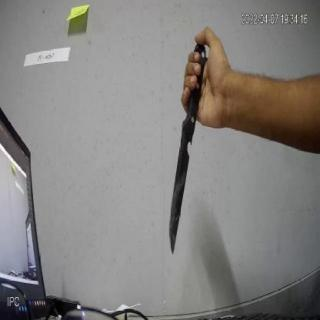knife: (169, 43, 207, 263)
